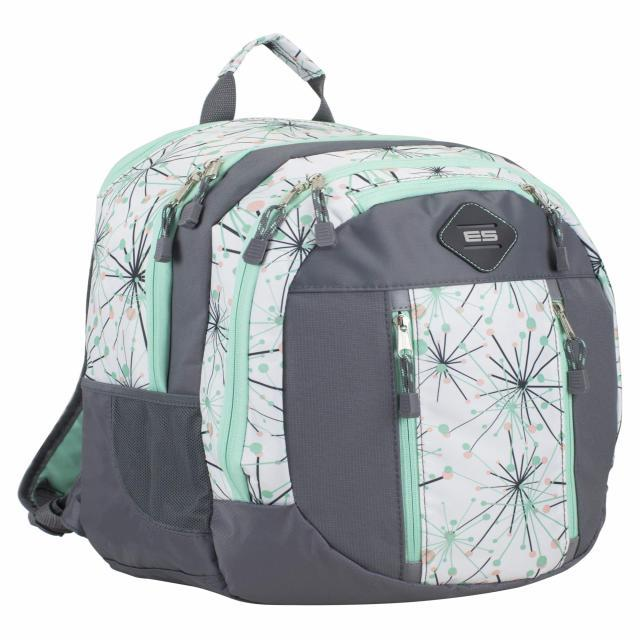Backpacks: (71, 113, 631, 609)
